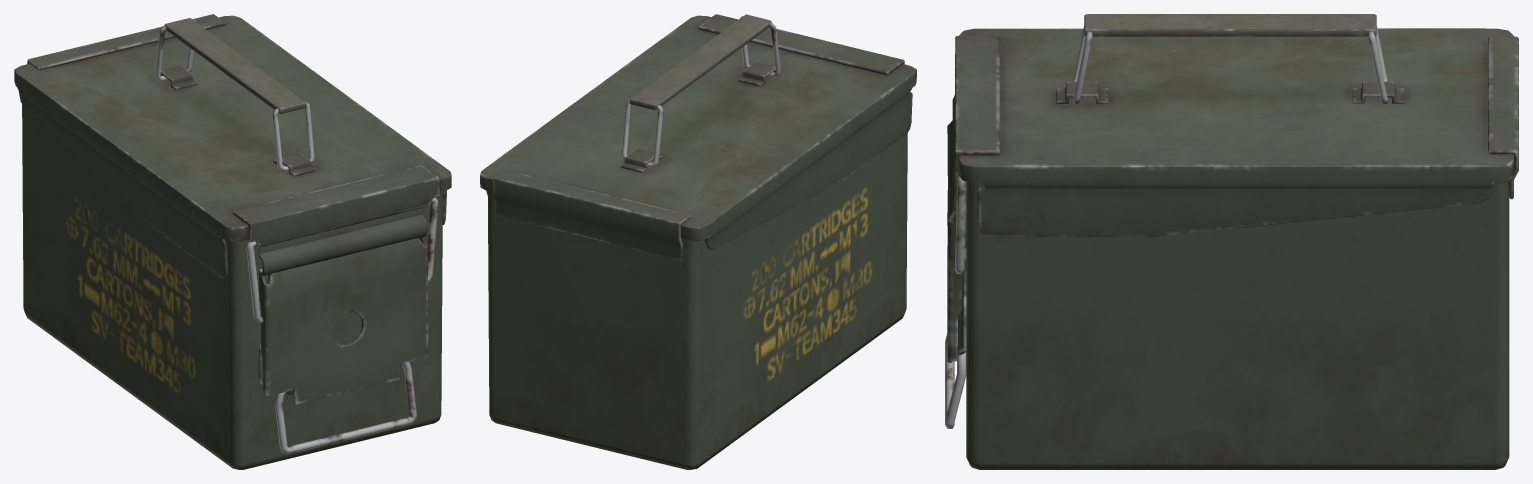
The model's file is CartridgeBox_01.fbx.
3 views of the same model, side by side, from view 1: azimuth 30°, elevation 25°; view 2: azimuth 150°, elevation 25°; view 3: azimuth 270°, elevation 25° (orthographic). The views are drawn at different scales.
Visible parts, largest first — view 1: Cover_low; view 2: Cover_low; view 3: Cover_low.
Boxes of the visible parts, x1,y1,x2,y2 form: Cover_low: (14, 14, 451, 469); Cover_low: (480, 14, 916, 469); Cover_low: (945, 14, 1518, 469).
Bounding box in the file's own units: 0.145 × 0.2536 × 0.19.
